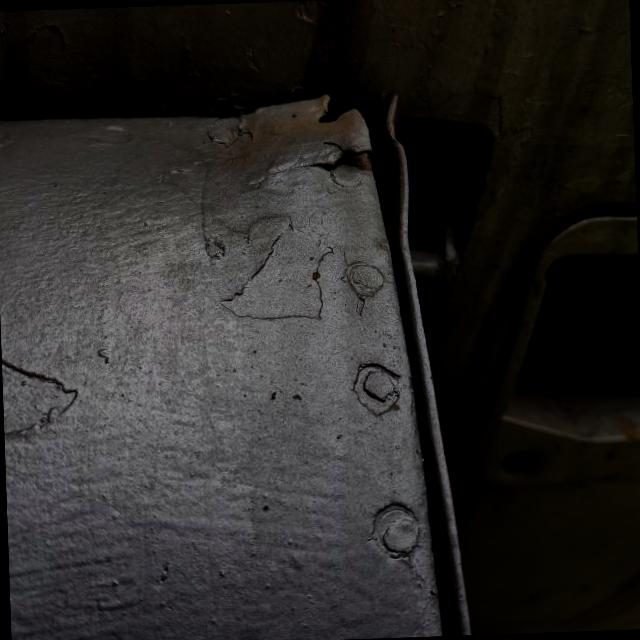crack: (295, 132, 384, 184)
